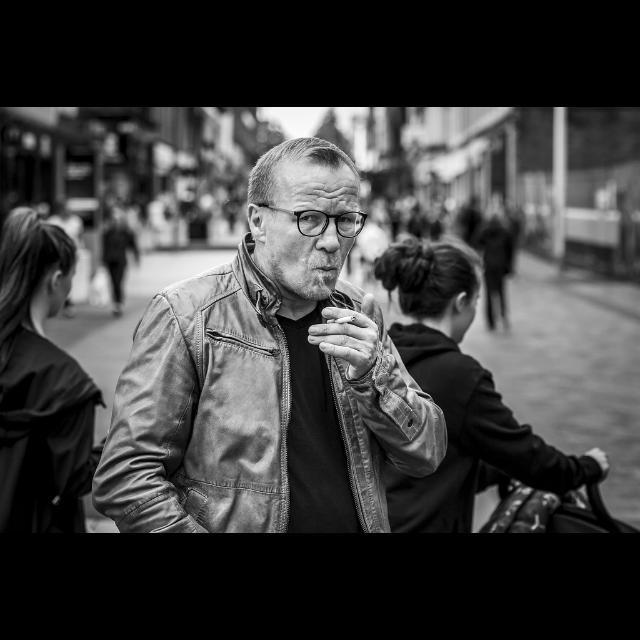rokok: (329, 314, 357, 326)
